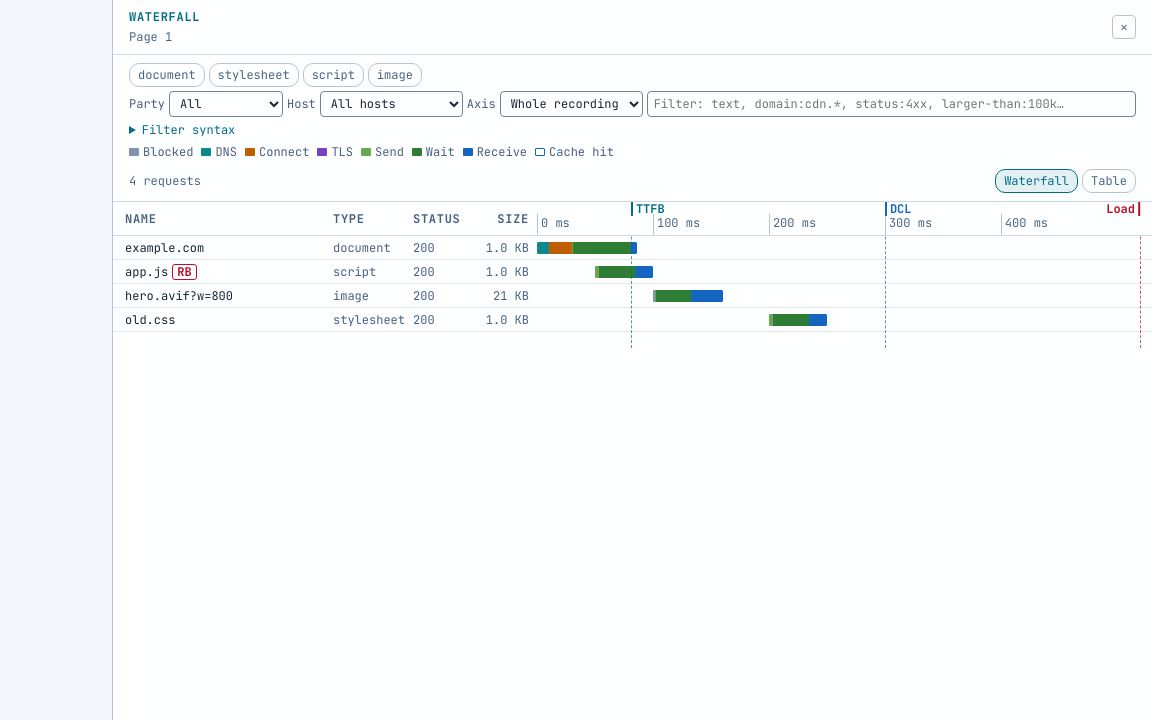
Scenario: WaterfallPanel: the detail of a request › lists the request and response headers in order, marking the masked values
Click the button "hero.avif?w=800 image 200 21 KB": (179, 296) [113,284,1152,308]
(page scrolled)
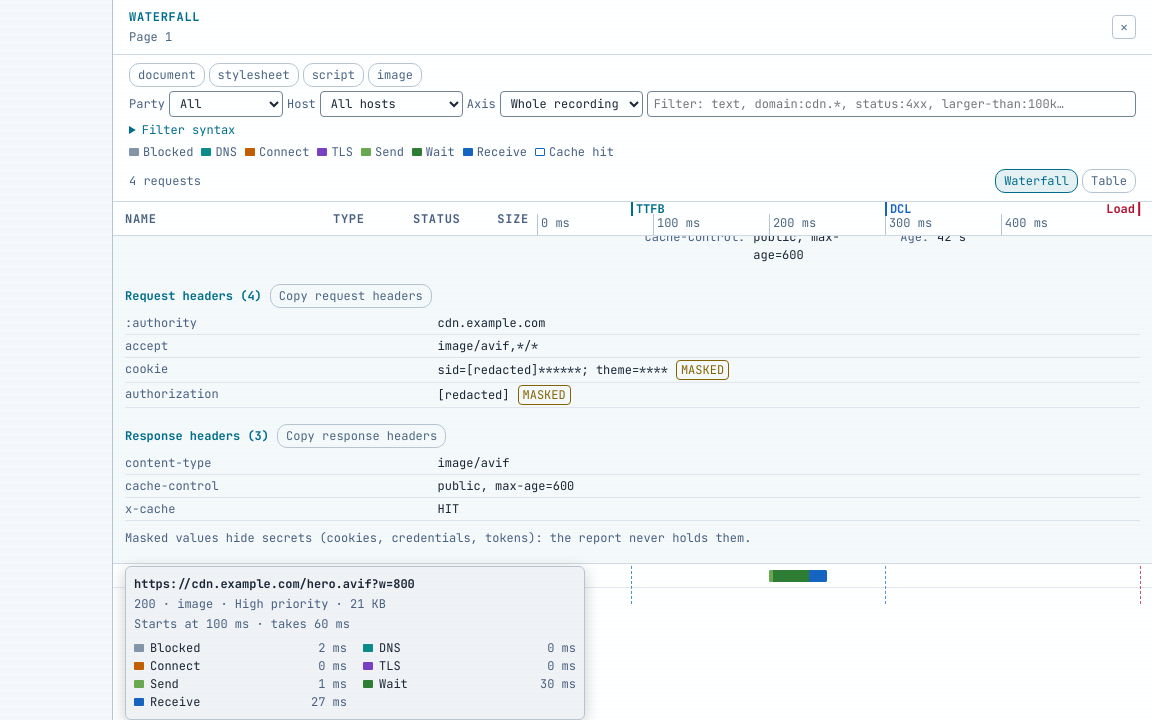
Check: the text "masked" next to "sid=[redacted]******; theme=****" is shown, box [681,362,724,378]
Check: the element "Response headers (3)" is shown, box [125,424,1140,521]
